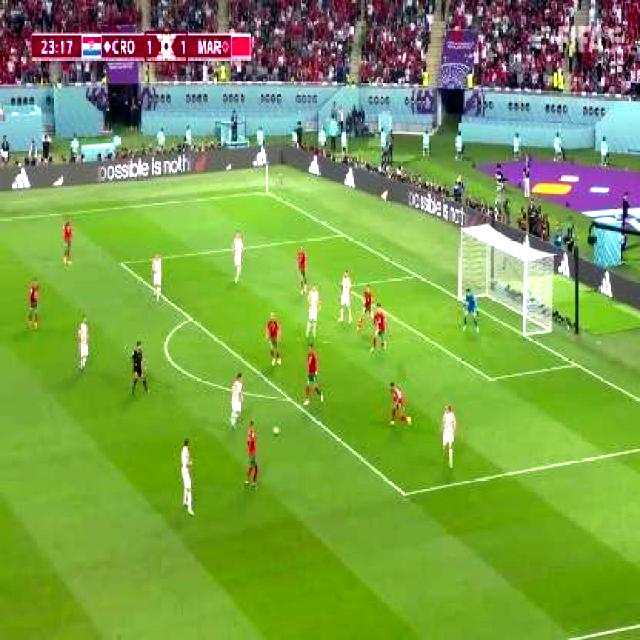bigarea_bottom_inner: (397, 483, 411, 505)
bigarea_top_inner: (115, 256, 126, 270)
bigarea_top_outter: (337, 229, 346, 240)
bottom_arc_area_intersection: (283, 391, 294, 406)
corner: (260, 189, 271, 197)
smallarea_bottom_inner: (483, 368, 497, 389)
smallarea_bottom_outter: (569, 355, 582, 371)
smallarea_top_outter: (411, 268, 422, 282)
top_arc_area_intersection: (184, 310, 193, 324)
